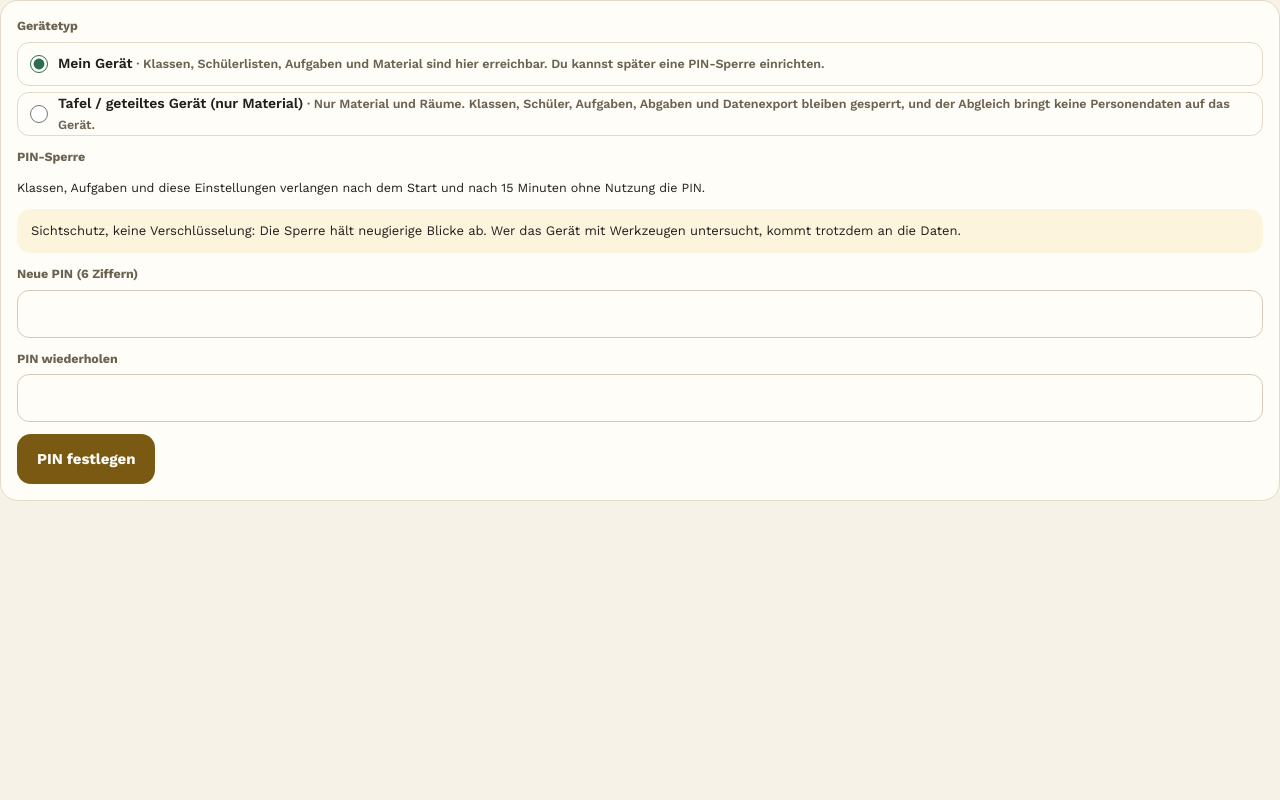
Test: DeviceSettingsCard › verlangt genau 6 Ziffern
Type "1234" into the password field labelled "Neue PIN (6 Ziffern)" at [640, 314], box [17,290,1263,338]
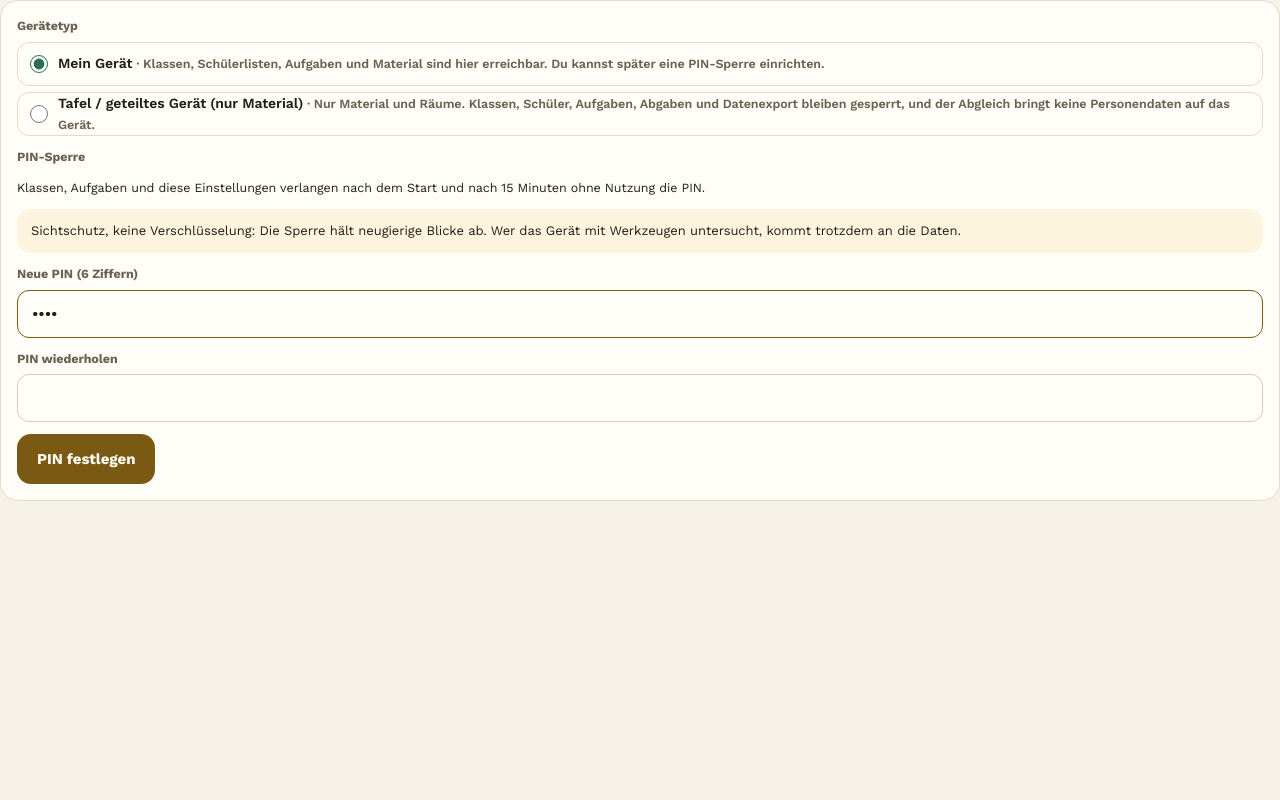
Click the button "PIN festlegen" at [86, 459], box [17,434,155,484]
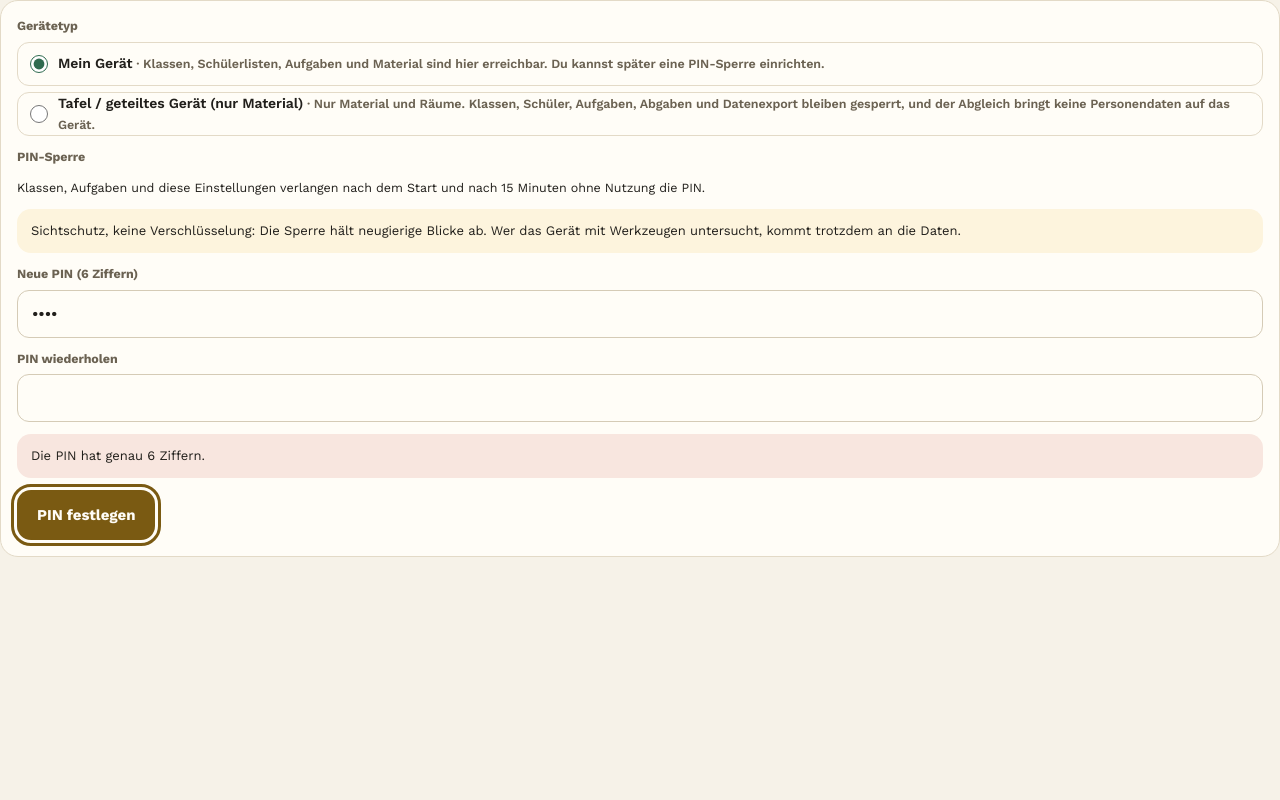
Expected: the message shows "genau 6 Ziffern", [31,448,205,463]
